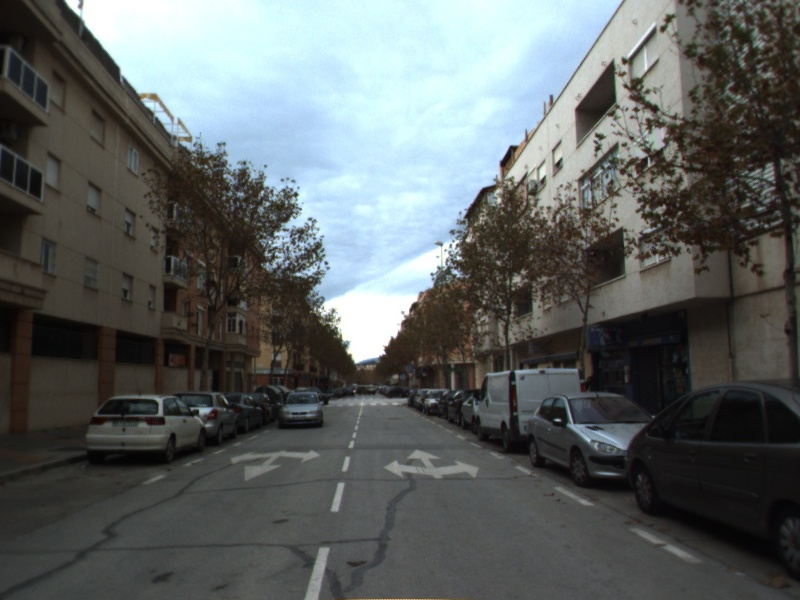STRAIGHT_LEFT_RIGHT: (382, 447, 481, 481)
